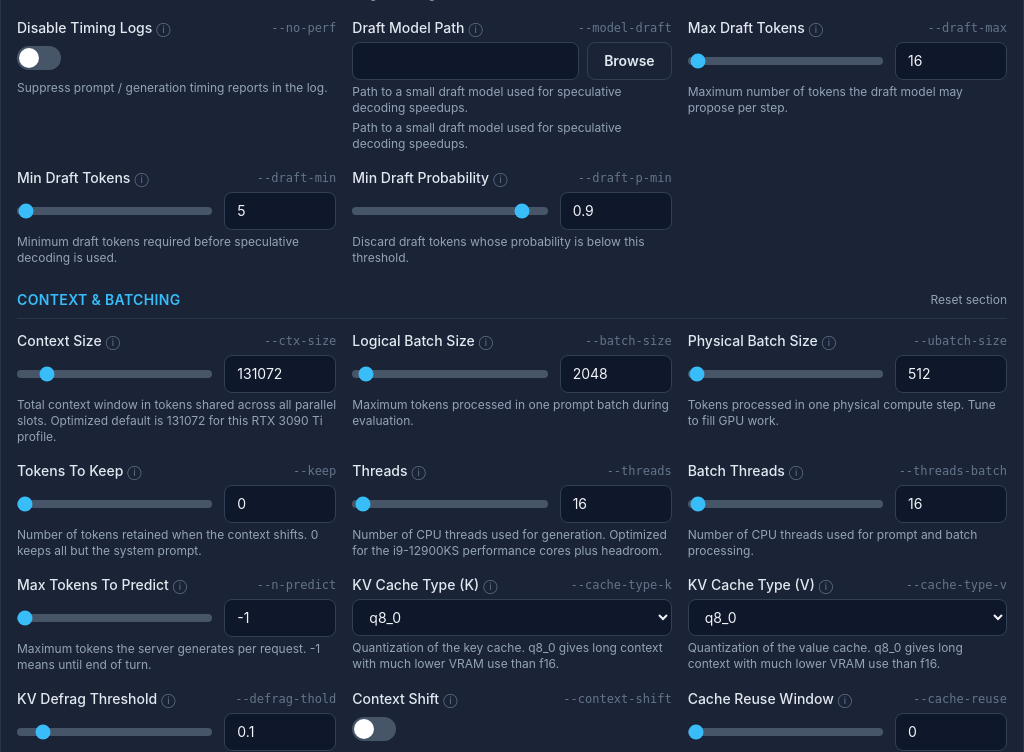
Scenario: SettingsTab flags › changing and applying a widget updates the flag passed to the server on next launch
(page scrolled)
Replace the text in the number field named "Context Size value" with "4096" at (280, 374), box [224,355,336,393]
(page scrolled)
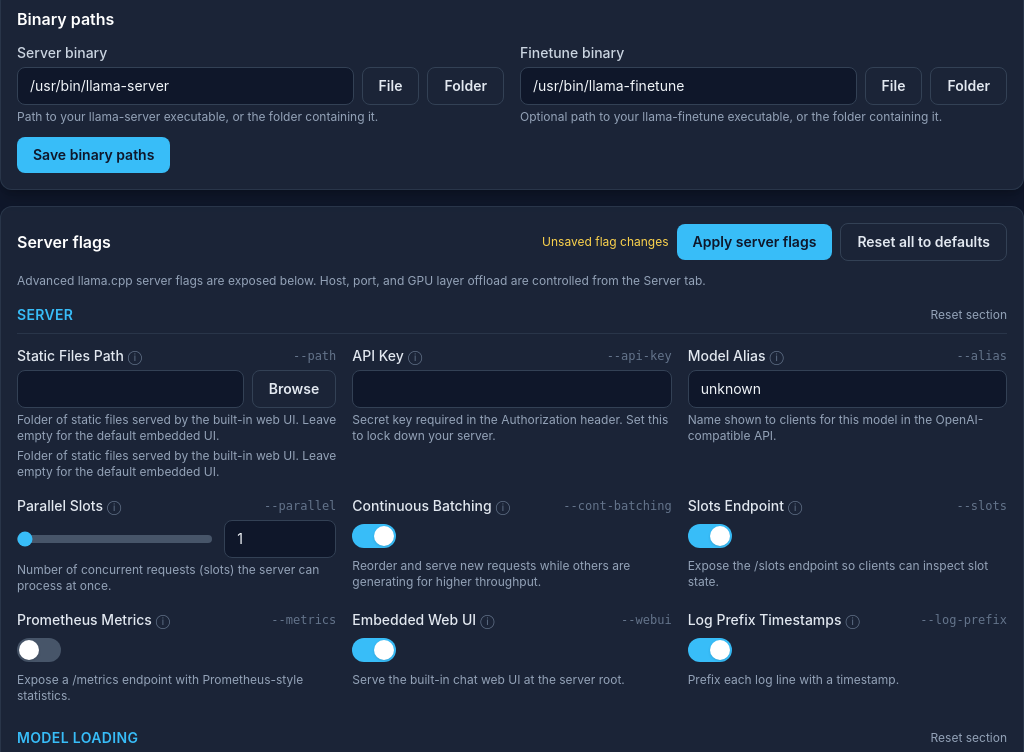
Expected: the text "Unsaved flag changes" is shown, [542,234,668,250]
Click the button with test id "apply-server-flags" at (754, 242), box [676,224,832,260]
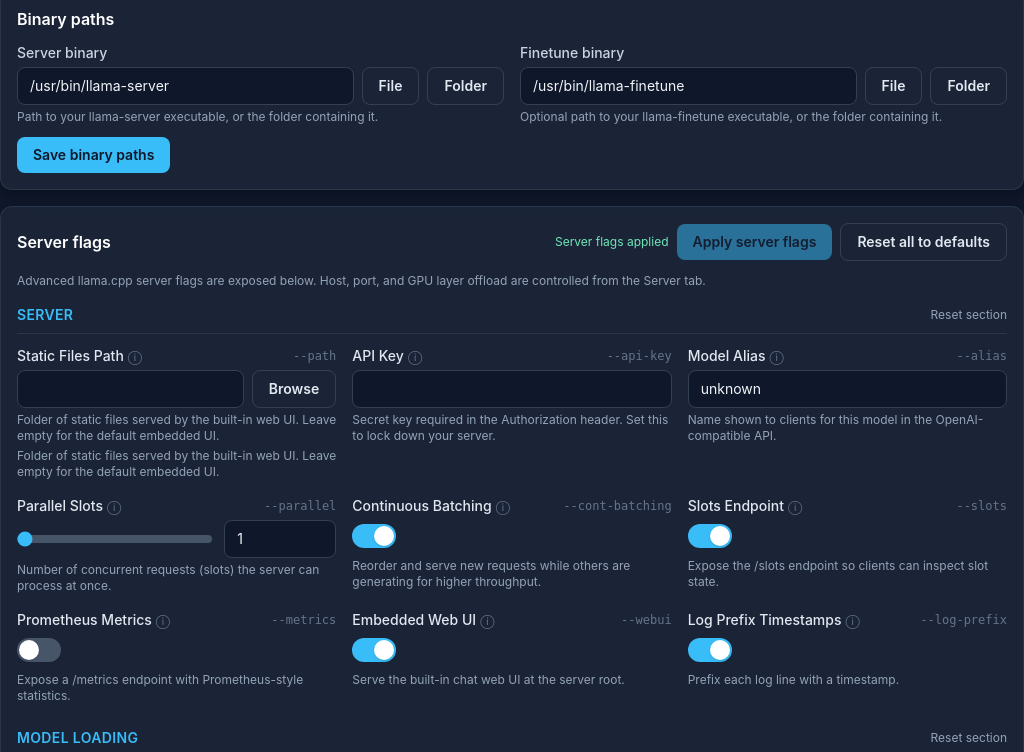
Expected: the text "Server flags applied" is shown, [555,234,668,250]
